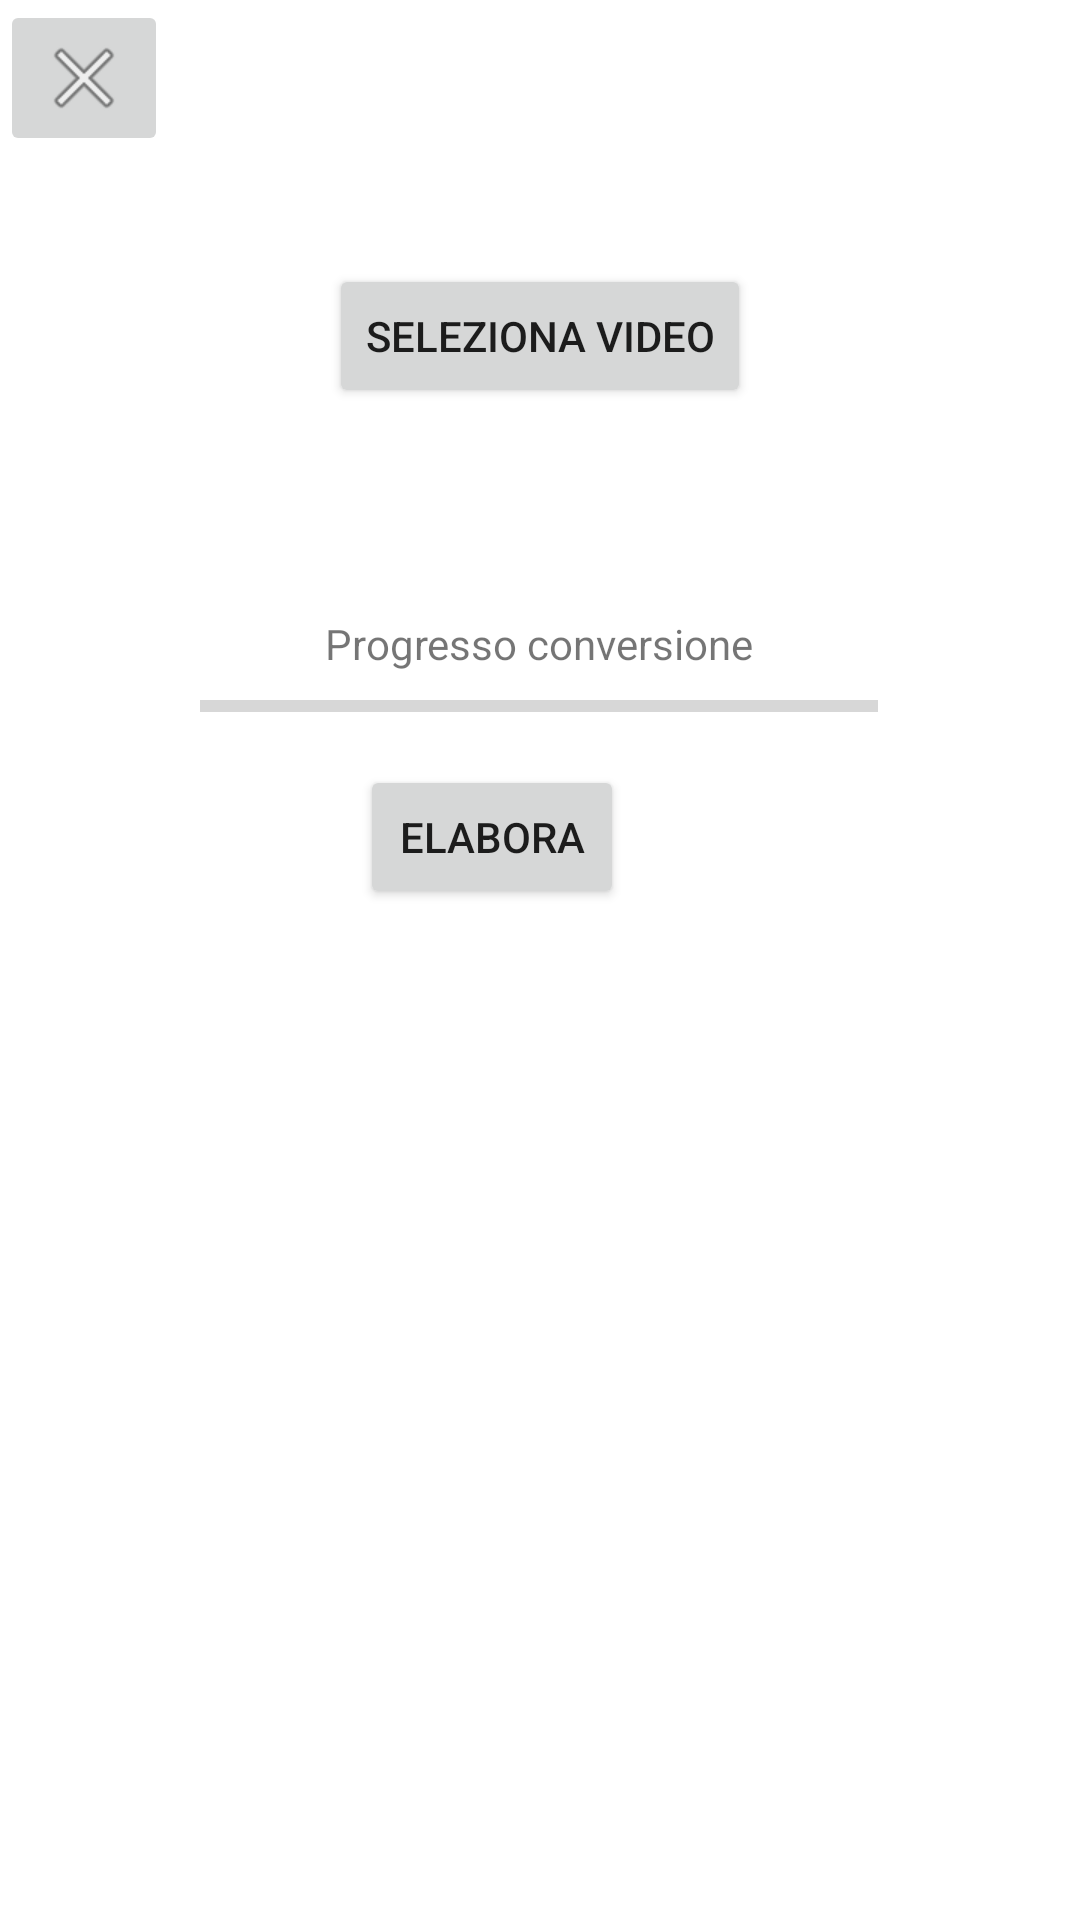

Icon bounding boxes for this 1080×1920 phone screenshot, format (x1, y1, x2, y2):
close clear cancel: (12, 18, 156, 138)
